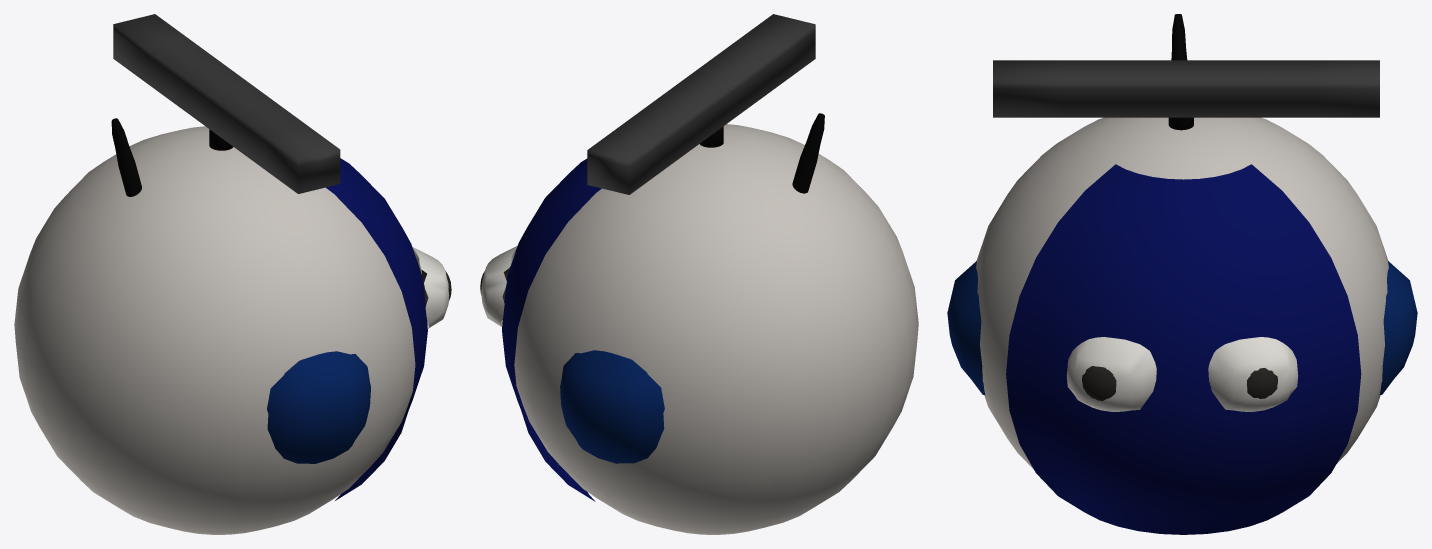
Rendered from qbo_head.dae.
The picture shows the model from 3 angles, left to right: view 1: azimuth 30°, elevation 25°; view 2: azimuth 150°, elevation 25°; view 3: azimuth 270°, elevation 25°; orthographic projection. The views are drawn at different scales.
Visible parts, largest first — view 1: Sphere_004, Cube, Sphere_002, Sphere, Sphere_003, Cylinder_003; view 2: Sphere_004, Cube, Sphere_002, Sphere, Sphere_003, Cylinder_003; view 3: Sphere, Sphere_004, Cube, Sphere_003, Sphere_002, Sphere_005, Cylinder_003.
Part boxes in pixels (bbox=[...]): Sphere_004: bbox=[14, 126, 415, 534]; Cube: bbox=[113, 14, 340, 193]; Sphere_002: bbox=[267, 351, 370, 463]; Sphere: bbox=[326, 158, 427, 500]; Sphere_003: bbox=[412, 247, 449, 328]; Cylinder_003: bbox=[111, 118, 141, 196]; Sphere_004: bbox=[514, 124, 918, 534]; Cube: bbox=[587, 14, 815, 194]; Sphere_002: bbox=[560, 350, 664, 463]; Sphere: bbox=[502, 158, 601, 501]; Sphere_003: bbox=[481, 246, 517, 326]; Cylinder_003: bbox=[792, 113, 824, 193]; Sphere: bbox=[1006, 164, 1361, 534]; Sphere_004: bbox=[976, 117, 1388, 469]; Cube: bbox=[993, 60, 1379, 117]; Sphere_003: bbox=[1066, 337, 1298, 411]; Sphere_002: bbox=[947, 261, 1417, 394]; Sphere_005: bbox=[1082, 366, 1277, 400]; Cylinder_003: bbox=[1171, 14, 1187, 60].
Size of the model in its own units: 0.3215 by 0.3379 by 0.3527.
